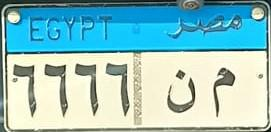6: (104, 61, 131, 123), (44, 58, 70, 121), (12, 57, 38, 119), (77, 61, 102, 118)
م: (207, 53, 242, 121)
ن: (161, 65, 200, 125)
